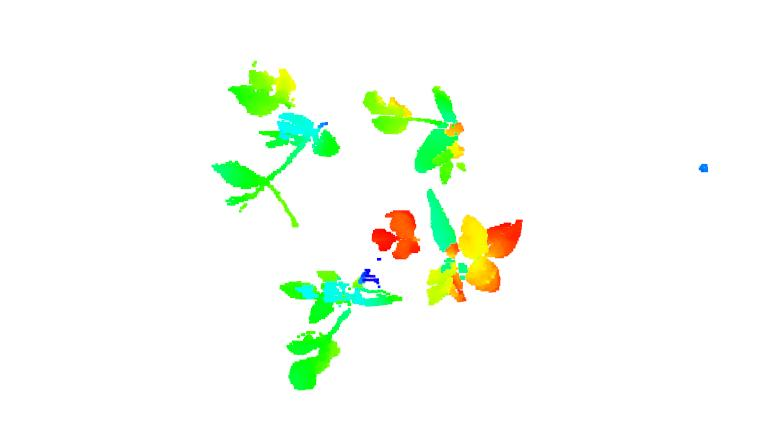mungbean: (280, 210, 421, 393), (209, 68, 349, 226), (417, 188, 528, 305), (360, 76, 476, 181)
